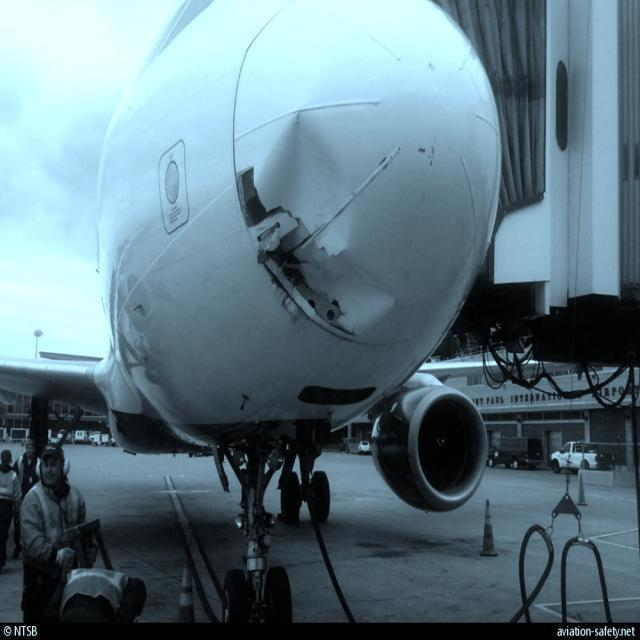dent: (257, 117, 355, 254), (317, 255, 399, 330)
